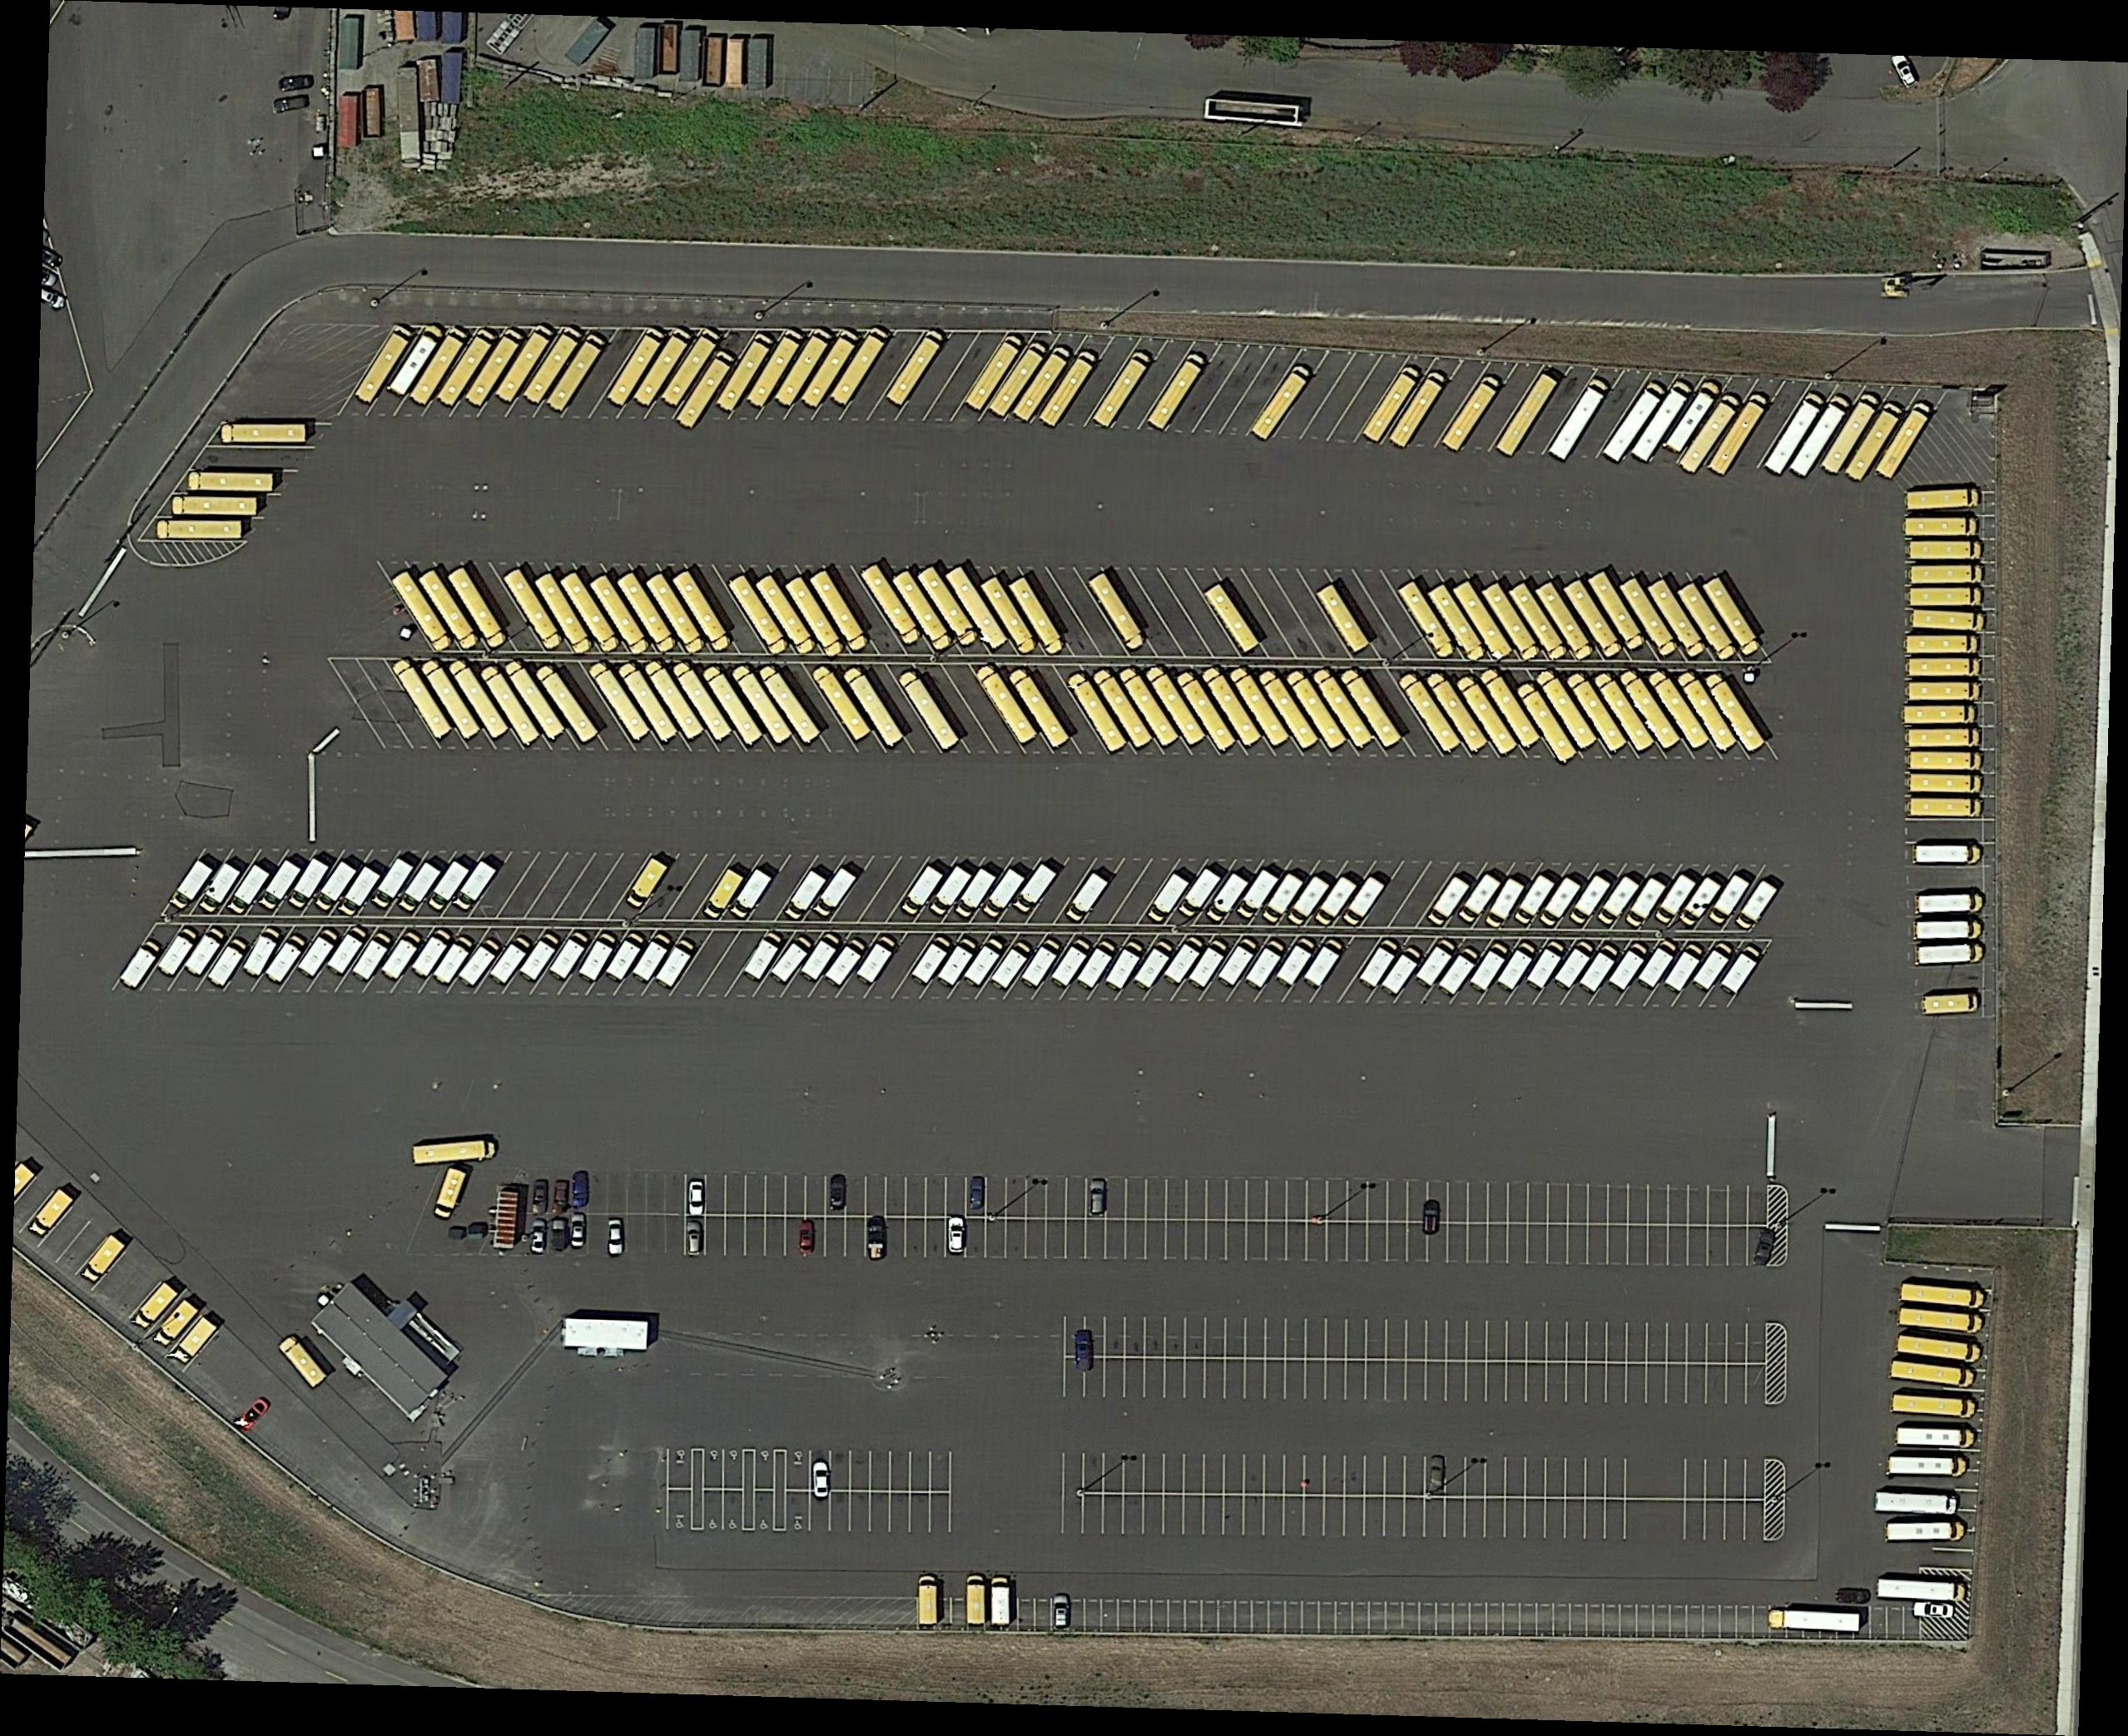ship: (1759, 389, 1828, 483), (942, 564, 1013, 654), (387, 564, 458, 652), (1396, 668, 1465, 758), (498, 564, 567, 654), (1787, 392, 1854, 484), (1336, 666, 1407, 753), (756, 661, 827, 748), (1600, 380, 1670, 467), (1545, 377, 1614, 465), (857, 560, 926, 649), (415, 564, 484, 652), (444, 564, 513, 652), (725, 569, 794, 658), (700, 659, 767, 750), (1704, 391, 1771, 481), (972, 661, 1043, 746), (1089, 665, 1158, 751), (914, 564, 983, 651), (1006, 665, 1073, 753), (1142, 661, 1209, 750), (615, 659, 682, 748), (728, 659, 795, 748), (1617, 666, 1684, 755), (657, 325, 725, 414), (1676, 391, 1743, 479), (889, 567, 956, 656), (753, 569, 820, 658), (642, 567, 709, 656), (1817, 391, 1882, 481), (1840, 400, 1905, 490), (896, 668, 963, 755), (417, 656, 484, 742), (587, 659, 654, 746), (806, 567, 873, 654), (530, 569, 597, 656), (350, 324, 417, 410), (1174, 666, 1239, 755), (1283, 666, 1349, 755), (841, 663, 907, 751), (504, 658, 569, 746), (670, 658, 735, 746), (1515, 679, 1580, 767), (1493, 371, 1559, 460), (1630, 378, 1695, 467), (407, 324, 472, 412), (783, 573, 848, 661), (670, 566, 735, 654), (534, 661, 601, 746), (1645, 668, 1713, 753), (882, 327, 949, 412), (961, 332, 1029, 417), (557, 569, 624, 654), (585, 571, 652, 656), (613, 569, 680, 654), (1066, 670, 1131, 757), (1198, 663, 1264, 750), (1257, 665, 1322, 751), (389, 654, 454, 741), (445, 656, 511, 742), (477, 663, 543, 750), (1478, 665, 1543, 751), (1564, 670, 1630, 757), (1702, 670, 1767, 757), (1387, 368, 1453, 454), (544, 331, 610, 417), (433, 325, 498, 412), (520, 324, 585, 410), (629, 325, 695, 412), (712, 331, 778, 417), (1117, 663, 1181, 751), (1359, 362, 1426, 445), (1089, 348, 1156, 431), (1142, 350, 1209, 433), (1437, 373, 1504, 456), (1455, 674, 1520, 758), (1425, 670, 1490, 755), (1591, 668, 1656, 753), (1644, 576, 1709, 661), (986, 338, 1052, 423), (1311, 665, 1375, 751), (643, 656, 707, 742), (461, 325, 525, 412), (604, 325, 668, 412), (1872, 398, 1935, 484), (1085, 571, 1151, 654), (1228, 666, 1292, 751), (1676, 668, 1739, 753), (1011, 341, 1075, 426), (491, 324, 555, 408), (771, 327, 834, 412), (1395, 576, 1458, 661), (1426, 582, 1490, 666), (799, 327, 861, 414), (808, 663, 873, 744), (1248, 362, 1313, 444), (1700, 575, 1764, 658), (1534, 668, 1598, 751), (1617, 576, 1681, 659), (1036, 348, 1099, 431), (1561, 576, 1624, 659), (1006, 575, 1069, 658), (1508, 580, 1571, 663), (829, 325, 891, 410), (1676, 582, 1739, 663), (1585, 571, 1649, 652), (1453, 580, 1515, 663), (746, 327, 806, 412), (1534, 582, 1598, 661), (1661, 378, 1723, 460), (673, 350, 735, 431), (979, 575, 1041, 656), (385, 322, 445, 401), (1483, 583, 1543, 661), (1202, 580, 1260, 654), (1315, 582, 1372, 656), (277, 1335, 329, 1390), (1690, 939, 1737, 995), (988, 939, 1036, 995), (129, 1282, 180, 1333), (1175, 868, 1223, 923), (256, 857, 304, 912), (25, 1186, 72, 1241), (203, 937, 251, 992), (117, 939, 164, 994), (182, 925, 228, 981), (1380, 944, 1426, 1001), (898, 864, 946, 917), (452, 861, 500, 914), (80, 1234, 127, 1287), (1716, 944, 1764, 997), (1101, 940, 1149, 994), (811, 868, 857, 923), (226, 863, 272, 917), (458, 939, 504, 994), (408, 928, 454, 983), (1456, 872, 1502, 926), (1511, 873, 1557, 928), (156, 925, 201, 979), (1467, 942, 1513, 997), (1493, 940, 1539, 995), (908, 933, 954, 988), (1188, 939, 1234, 994), (433, 933, 477, 990), (1663, 939, 1707, 995), (1896, 1335, 1980, 1365), (152, 1299, 200, 1351), (1437, 948, 1485, 999), (783, 870, 829, 923), (622, 857, 668, 910), (1064, 872, 1110, 925), (196, 863, 242, 916), (336, 866, 382, 919), (1258, 873, 1304, 926), (171, 1317, 217, 1370), (380, 930, 426, 983), (654, 939, 700, 992), (1425, 875, 1471, 928), (1538, 877, 1584, 930), (1677, 877, 1723, 930), (1552, 940, 1598, 994), (286, 857, 331, 912), (488, 935, 532, 990), (240, 925, 285, 979), (548, 930, 592, 985), (1524, 940, 1568, 995), (1357, 937, 1402, 992), (1020, 937, 1064, 992), (1075, 939, 1119, 994), (1243, 939, 1287, 994), (1145, 873, 1191, 925), (1898, 1308, 1981, 1336), (928, 866, 972, 919), (981, 868, 1025, 921), (1205, 872, 1250, 925), (1235, 870, 1280, 923), (313, 861, 357, 914), (1313, 877, 1357, 930), (1877, 1579, 1965, 1605), (297, 928, 341, 981), (352, 932, 396, 985), (263, 933, 308, 986), (1483, 879, 1527, 932), (799, 932, 843, 985), (1577, 942, 1621, 995), (1414, 937, 1458, 990), (1607, 942, 1651, 995), (1301, 939, 1345, 992), (825, 937, 870, 990), (1048, 937, 1092, 990), (935, 937, 979, 990), (961, 937, 1006, 990), (1273, 937, 1317, 990), (1133, 939, 1177, 992), (1161, 935, 1205, 988), (1216, 937, 1260, 990), (371, 857, 414, 912), (329, 925, 371, 979), (604, 932, 647, 986), (742, 928, 785, 983), (1889, 1361, 1976, 1388), (398, 69, 421, 168), (1767, 1609, 1859, 1633), (953, 868, 997, 919), (1013, 864, 1057, 916), (426, 861, 470, 912), (398, 863, 442, 914), (1341, 877, 1386, 928), (518, 933, 562, 985), (771, 935, 815, 986), (1596, 877, 1640, 928), (1707, 875, 1752, 926), (1734, 880, 1778, 932), (854, 935, 898, 986), (702, 868, 744, 921), (1900, 1283, 1985, 1310), (576, 932, 619, 985), (1637, 940, 1679, 994), (170, 861, 214, 910), (1624, 879, 1668, 928), (1287, 875, 1329, 926), (631, 933, 673, 985), (1569, 875, 1612, 926), (1654, 875, 1697, 926), (730, 870, 772, 919), (1891, 1395, 1974, 1420), (414, 1142, 497, 1165), (1905, 488, 1981, 513), (433, 1169, 468, 1222), (1905, 658, 1985, 681), (1895, 1427, 1974, 1450), (157, 520, 242, 541), (1875, 1494, 1958, 1515), (189, 472, 272, 493), (1886, 1522, 1965, 1543), (221, 424, 308, 444), (1912, 845, 1981, 868), (1914, 895, 1983, 917), (1912, 610, 1985, 631), (1907, 728, 1980, 750), (1889, 1457, 1967, 1476), (1907, 589, 1983, 608), (173, 499, 256, 516), (1904, 520, 1978, 539), (1916, 946, 1983, 967), (1904, 707, 1976, 727), (1909, 682, 1981, 702), (1911, 776, 1981, 796), (1904, 636, 1980, 654), (1911, 753, 1980, 773), (1914, 921, 1981, 940), (1909, 543, 1981, 560), (1911, 799, 1981, 817), (1907, 567, 1985, 583), (965, 1573, 988, 1626), (1923, 995, 1978, 1016), (917, 1575, 939, 1628), (992, 1575, 1013, 1626)
swimming-pool: (233, 1397, 270, 1432), (1888, 57, 1921, 88), (1075, 1331, 1096, 1372), (866, 1218, 887, 1259), (1912, 1602, 1957, 1621), (1753, 1230, 1776, 1266), (811, 1460, 829, 1499), (551, 1181, 571, 1216), (1089, 1179, 1106, 1216), (947, 1216, 965, 1253), (688, 1179, 705, 1216), (829, 1172, 847, 1209), (532, 1181, 550, 1218), (277, 74, 315, 92), (969, 1176, 986, 1211), (799, 1222, 817, 1257), (272, 95, 308, 113), (42, 286, 65, 313), (1053, 1595, 1071, 1628), (608, 1216, 622, 1257), (1836, 1589, 1872, 1605), (686, 1222, 702, 1255), (569, 1214, 585, 1248), (44, 246, 65, 270), (1428, 1457, 1444, 1489), (1423, 1202, 1439, 1234), (573, 1174, 589, 1206), (551, 1222, 567, 1252), (41, 267, 60, 290), (532, 1222, 544, 1252)
